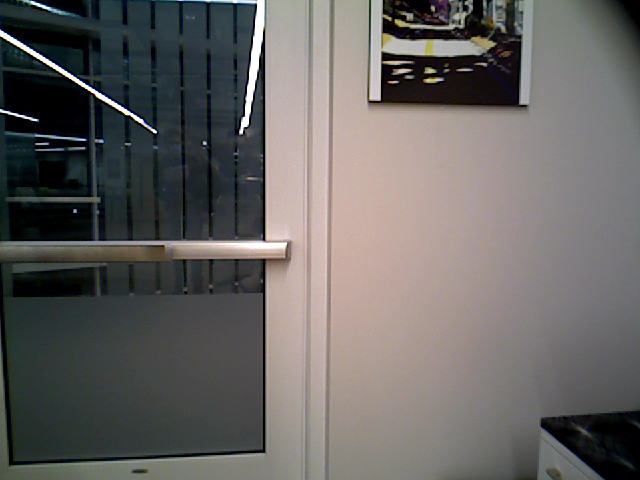painting3: (370, 1, 528, 106)
